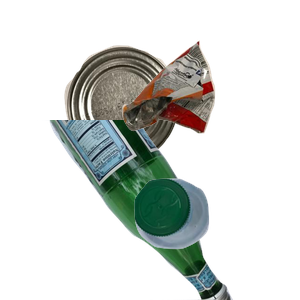glass: (37, 120, 262, 300)
metal: (62, 43, 232, 198)
plastic: (132, 176, 300, 300)
trash: (120, 38, 300, 164)
